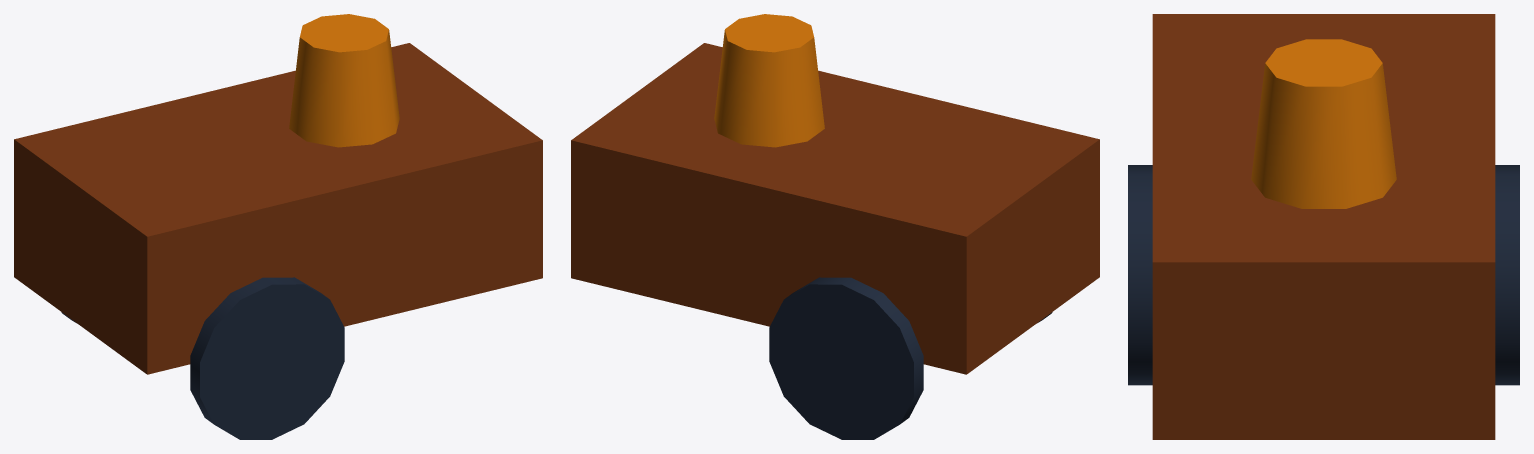
File: chai_cart.glb
3 views of the same model, side by side, from view 1: azimuth 30°, elevation 25°; view 2: azimuth 150°, elevation 25°; view 3: azimuth 270°, elevation 25° (orthographic). The views are drawn at different scales.
Visible parts, largest first — view 1: ChaiCart; view 2: ChaiCart; view 3: ChaiCart.
Part boxes in pixels (left/top/right/bottom): ChaiCart: left=14, top=14, right=542, bottom=439; ChaiCart: left=571, top=14, right=1099, bottom=439; ChaiCart: left=1128, top=14, right=1519, bottom=439.
Bounding box in the file's own units: 2.4 × 1.82 × 1.6.
